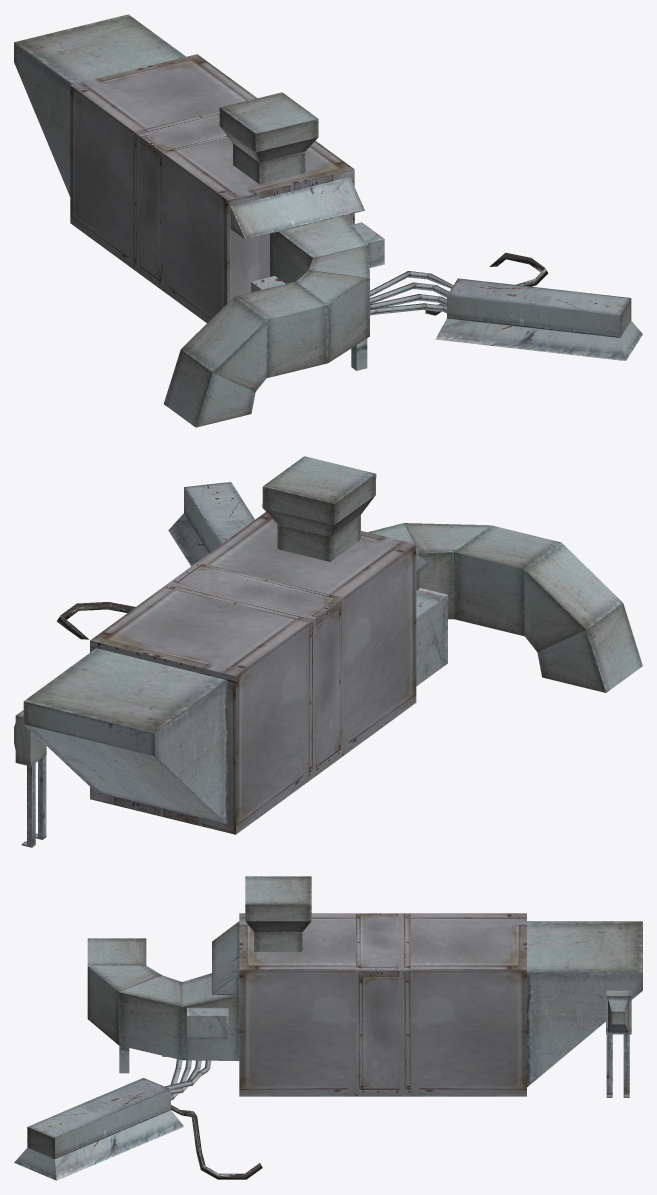
File: Air_vent_machine2.fbx
3 views of the same model, one above another, from view 1: azimuth 30°, elevation 25°; view 2: azimuth 150°, elevation 25°; view 3: azimuth 270°, elevation 25° (orthographic). The views are drawn at different scales.
Visible parts, largest first — view 1: Air_vent_machine2; view 2: Air_vent_machine2; view 3: Air_vent_machine2.
Part boxes in pixels (x1,y1,x2,y2): Air_vent_machine2: [14, 14, 642, 427]; Air_vent_machine2: [14, 456, 642, 847]; Air_vent_machine2: [14, 876, 642, 1180].
Size of the model in its own units: 754 by 331 by 1042.
